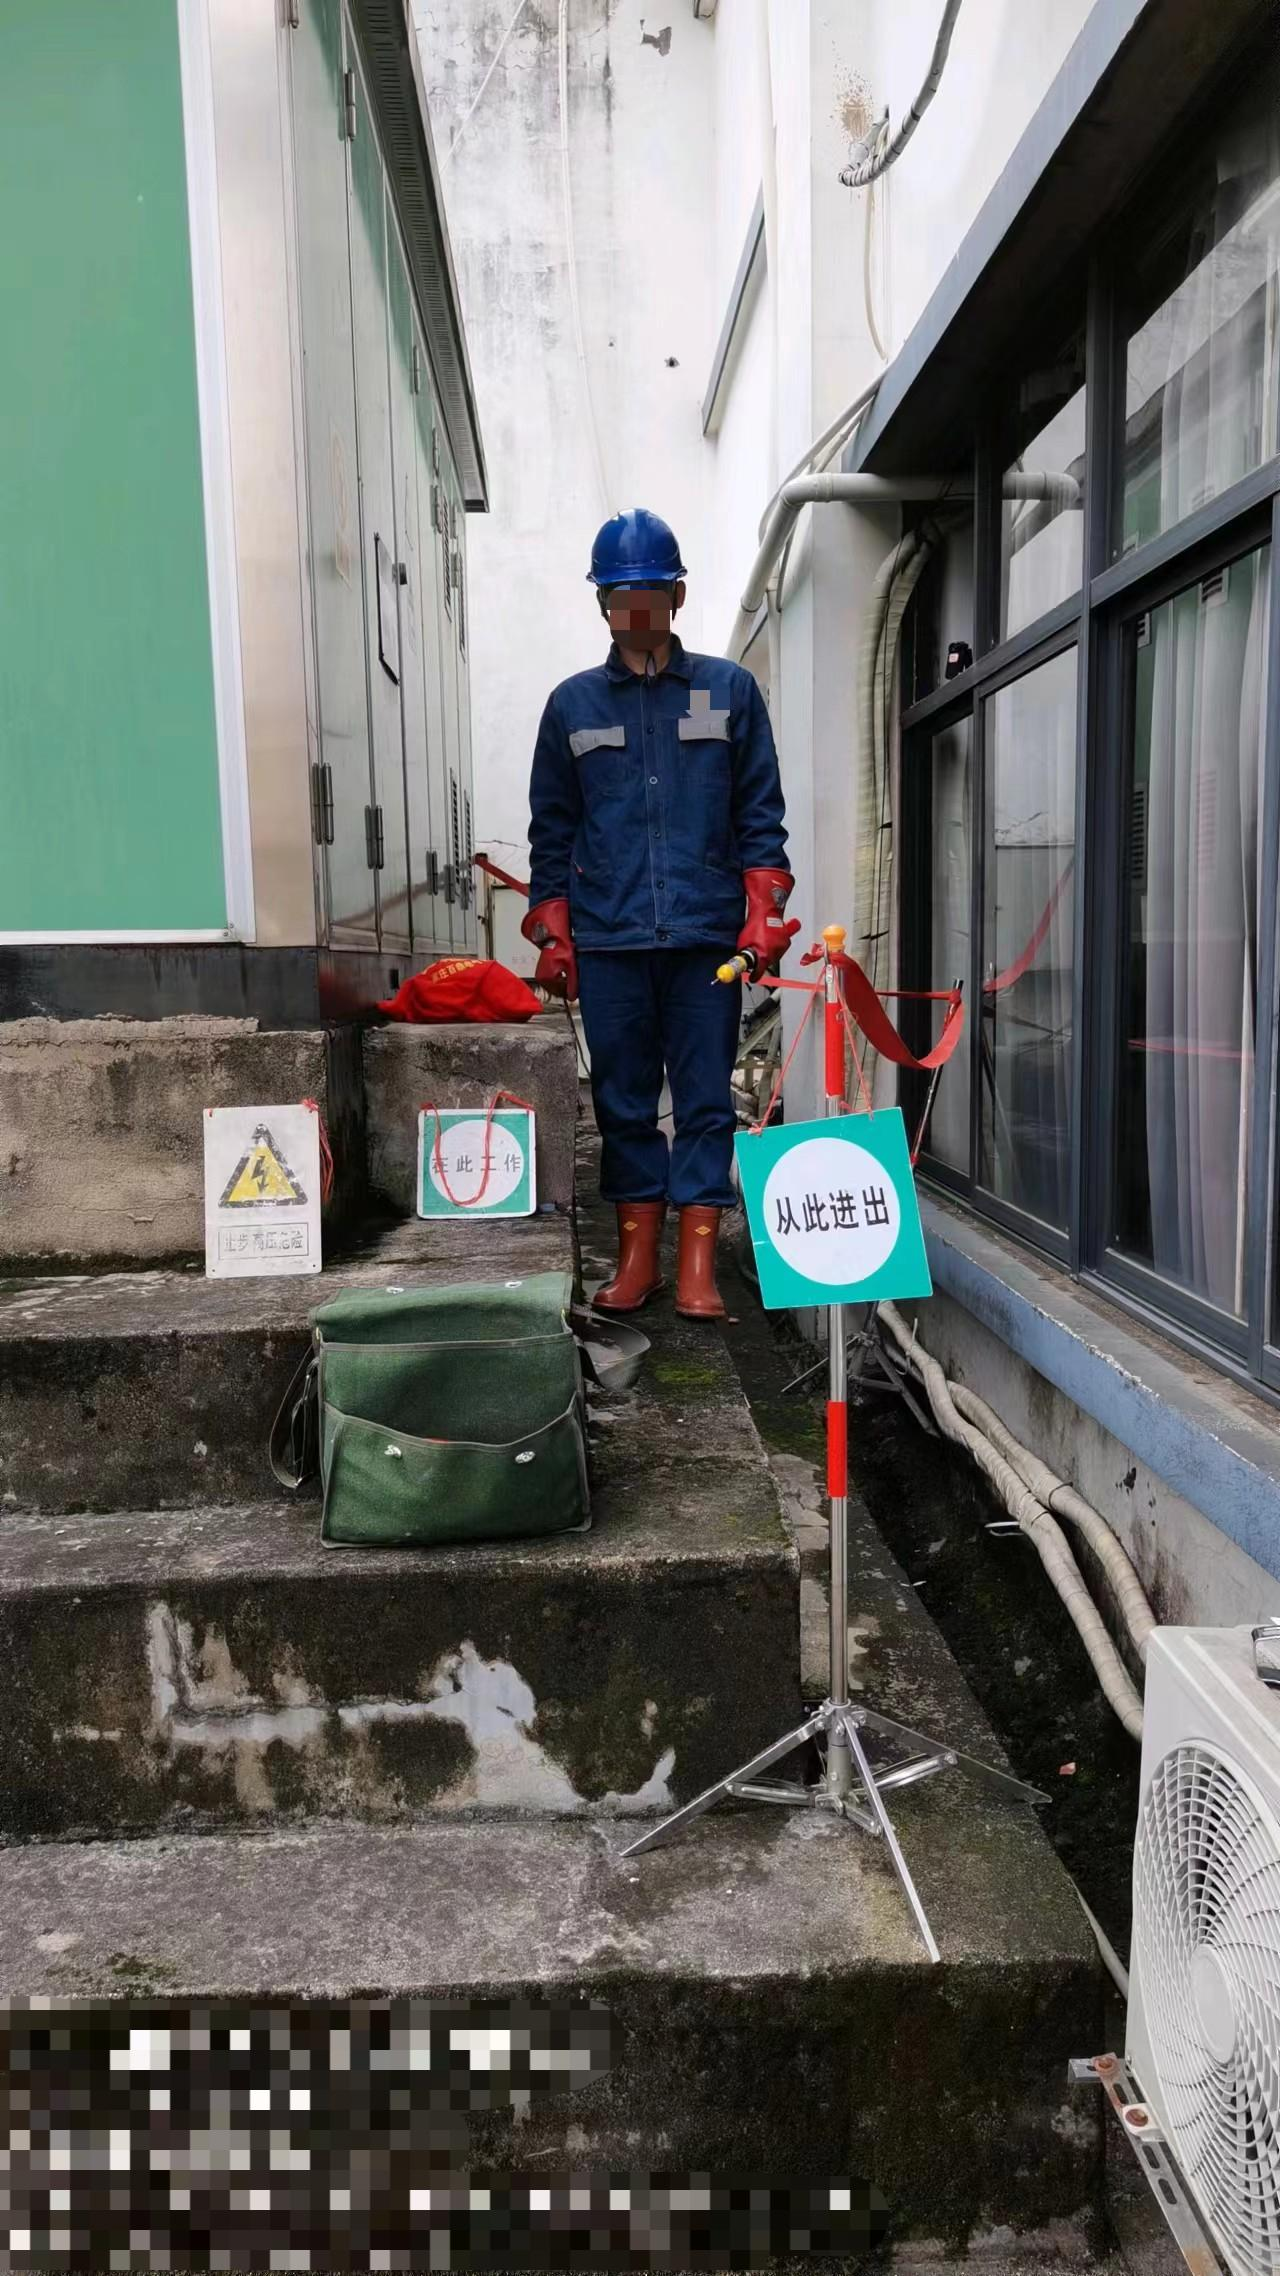halt: (588, 513, 695, 660)
